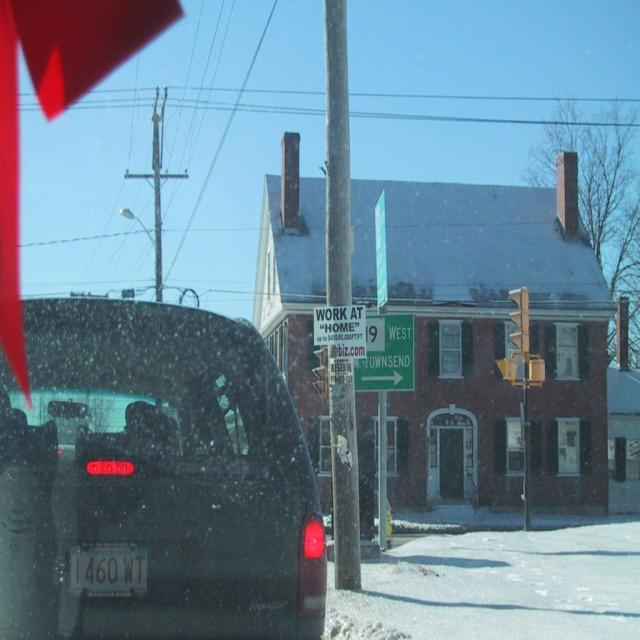off traffic light: (508, 283, 529, 356), (309, 345, 328, 399)
